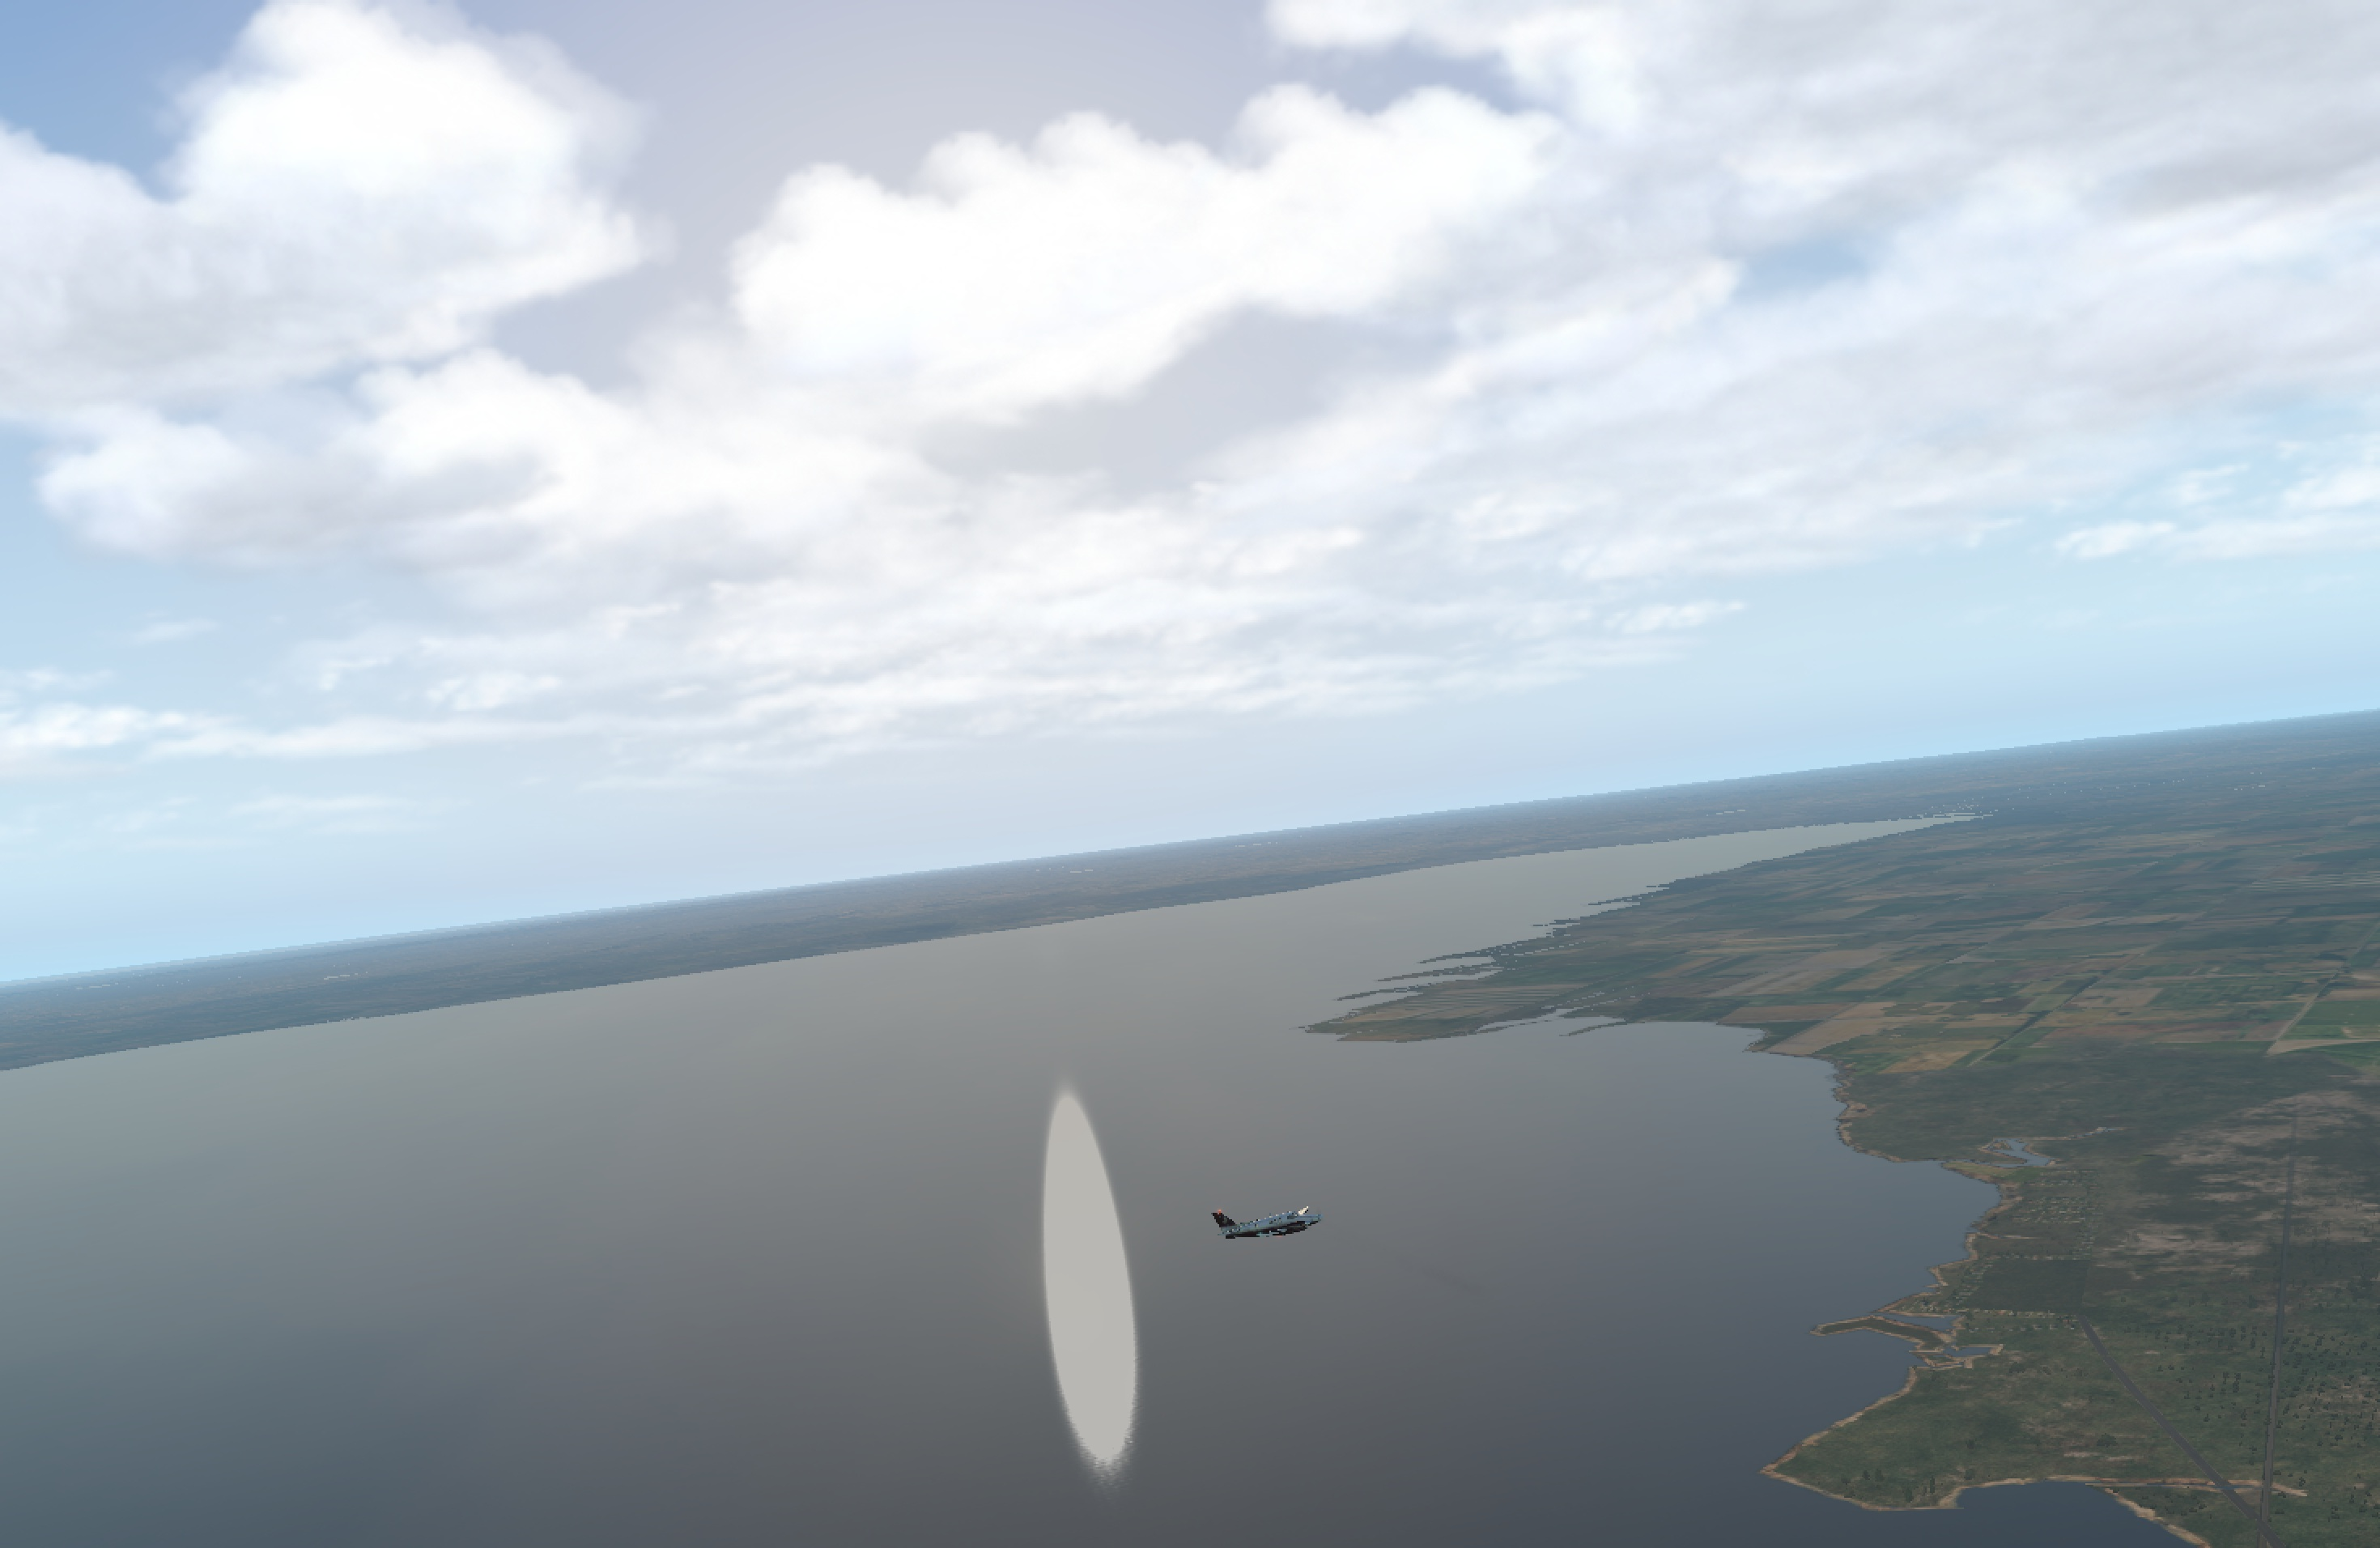aircraft: (1209, 1199, 1370, 1260)
